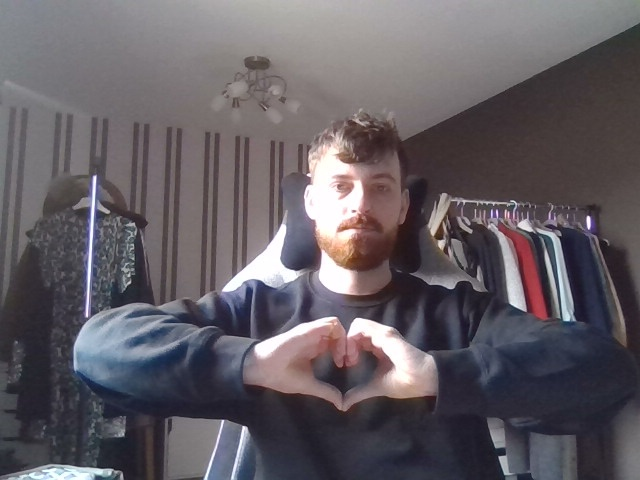Love: (242, 300, 444, 435)
